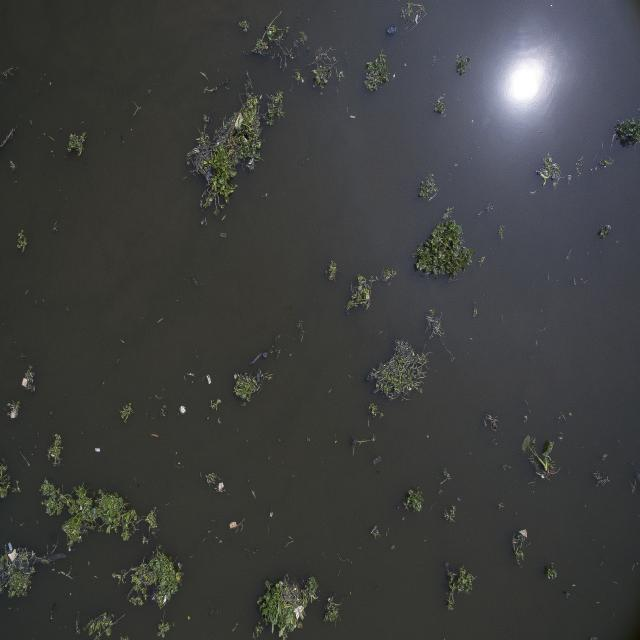plastic: (2, 534, 24, 572), (176, 398, 193, 421), (218, 477, 227, 495)
